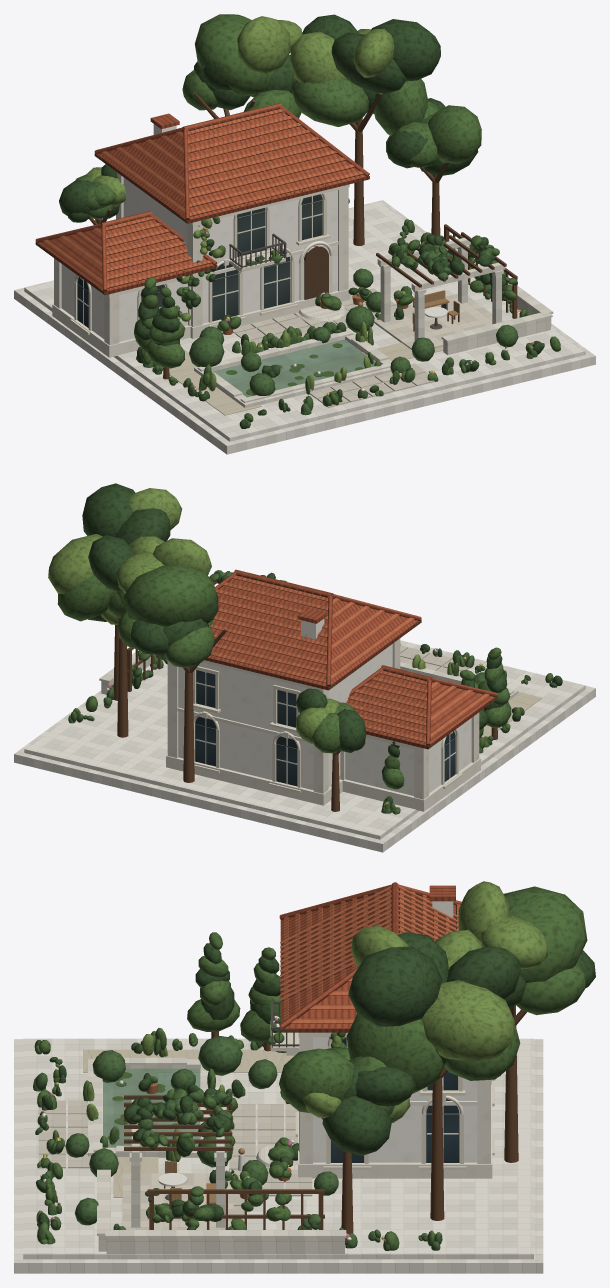
Rendered from villaserena.glb.
3 views of the same model, one above another, from view 1: azimuth 30°, elevation 25°; view 2: azimuth 150°, elevation 25°; view 3: azimuth 270°, elevation 25° (orthographic). The views are drawn at different scales.
Visible parts, largest first — view 1: tree_canopy (×17), plinth_step, villa_roof_tiles, plinth, villa_walls, wing_roof_tiles, villa_roof_tile_course (×6), window_glass (×4), pond_water, gravel_walk (×2), loggia_floor, west_wing_walls (+17 smaller); view 2: tree_canopy (×16), plinth_step, villa_roof_tiles, villa_walls, plinth, wing_roof_tiles, west_wing_walls, window_glass (×4), villa_roof_tile_course (×5), tree_trunk (×2), villa_plinth, villa_quoin (×2) (+6 smaller); view 3: tree_canopy (×16), plinth_step, plinth, villa_walls, clipped_box (×5), villa_roof_tiles, tree_trunk (×3), garden_wall, gravel_walk (×2), garden_wall_cap (×2), cypress_mass (×4), pond_water (+8 smaller).
Part boxes in pixels (box(x1,y1,x2,y2)): tree_canopy (×17): box(59, 14, 481, 215); plinth_step: box(24, 201, 585, 441); villa_roof_tiles: box(98, 109, 365, 219); plinth: box(14, 200, 595, 454); villa_walls: box(123, 177, 337, 323); wing_roof_tiles: box(39, 220, 213, 290); villa_roof_tile_course (×6): box(188, 136, 363, 216); window_glass (×4): box(212, 200, 322, 321); pond_water: box(212, 339, 375, 397); gravel_walk (×2): box(136, 342, 443, 415); loggia_floor: box(374, 296, 502, 349); west_wing_walls: box(61, 264, 187, 341); tree_canopy (×16): box(48, 483, 366, 753); plinth_step: box(24, 640, 585, 839); villa_roof_tiles: box(208, 577, 417, 685); villa_walls: box(178, 644, 392, 790); plinth: box(14, 686, 595, 852); wing_roof_tiles: box(346, 674, 494, 745); west_wing_walls: box(345, 718, 471, 795); window_glass (×4): box(195, 670, 297, 786); villa_roof_tile_course (×5): box(210, 616, 327, 683); tree_trunk (×2): box(117, 636, 194, 782); villa_plinth: box(166, 755, 342, 805); villa_quoin (×2): box(167, 660, 328, 793); tree_canopy (×16): box(279, 881, 587, 1155); plinth_step: box(23, 1038, 533, 1259); plinth: box(14, 1039, 543, 1273); villa_walls: box(313, 1037, 477, 1162); clipped_box (×5): box(74, 1035, 277, 1225); villa_roof_tiles: box(282, 892, 455, 1028); tree_trunk (×3): box(341, 1005, 518, 1233); garden_wall: box(106, 1238, 344, 1253); gravel_walk (×2): box(83, 1049, 294, 1197); garden_wall_cap (×2): box(97, 1169, 346, 1238); cypress_mass (×4): box(187, 980, 270, 1042); pond_water: box(103, 1068, 200, 1147).
Size of the model in its own units: 21.67 by 12.56 by 21.99.
29 materials, 28 textured.
